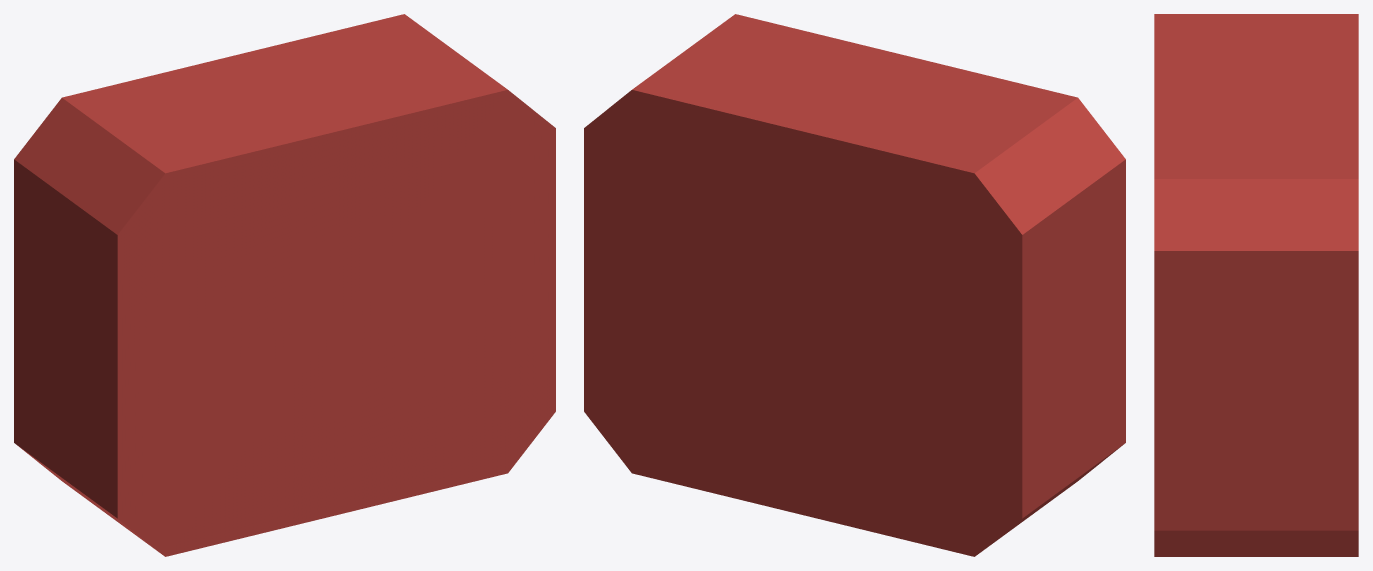
Rendered from four_piston_axial_lod2.glb.
3 renders of one model, left to right at view 1: azimuth 30°, elevation 25°; view 2: azimuth 150°, elevation 25°; view 3: azimuth 270°, elevation 25°, orthographic.
Parts seen in each view (by area): view 1: four_piston_axial_lod2; view 2: four_piston_axial_lod2; view 3: four_piston_axial_lod2.
Boxes of the visible parts, bbox=[...] form: four_piston_axial_lod2: bbox=[14, 14, 555, 556]; four_piston_axial_lod2: bbox=[584, 14, 1125, 556]; four_piston_axial_lod2: bbox=[1154, 14, 1358, 556].
Size of the model in its own units: 0.11 by 0.092 by 0.045.
